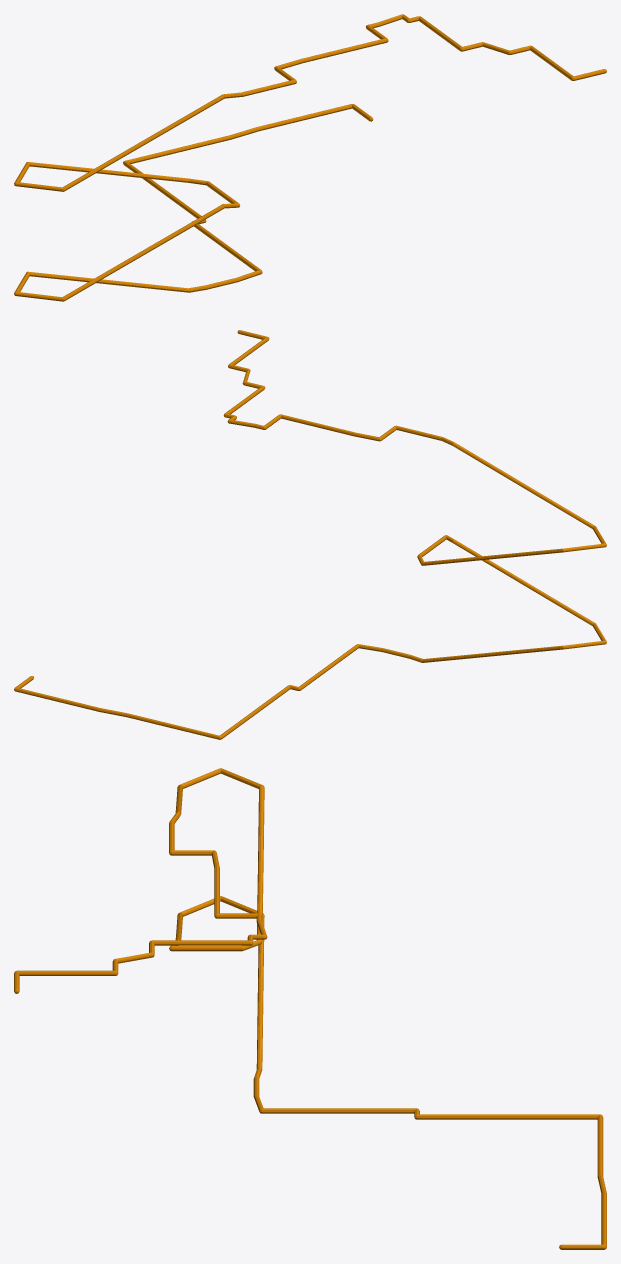
3 views of the same model, one above another, from view 1: azimuth 30°, elevation 25°; view 2: azimuth 150°, elevation 25°; view 3: azimuth 270°, elevation 25° (orthographic). The views are drawn at different scales.
Bounding box in the file's own units: 2408 × 1020 × 2102.
